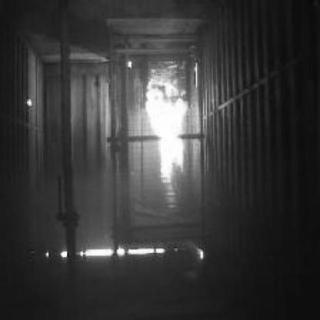Fire: (127, 79, 193, 187)
other: (42, 246, 206, 264), (23, 98, 33, 110)
